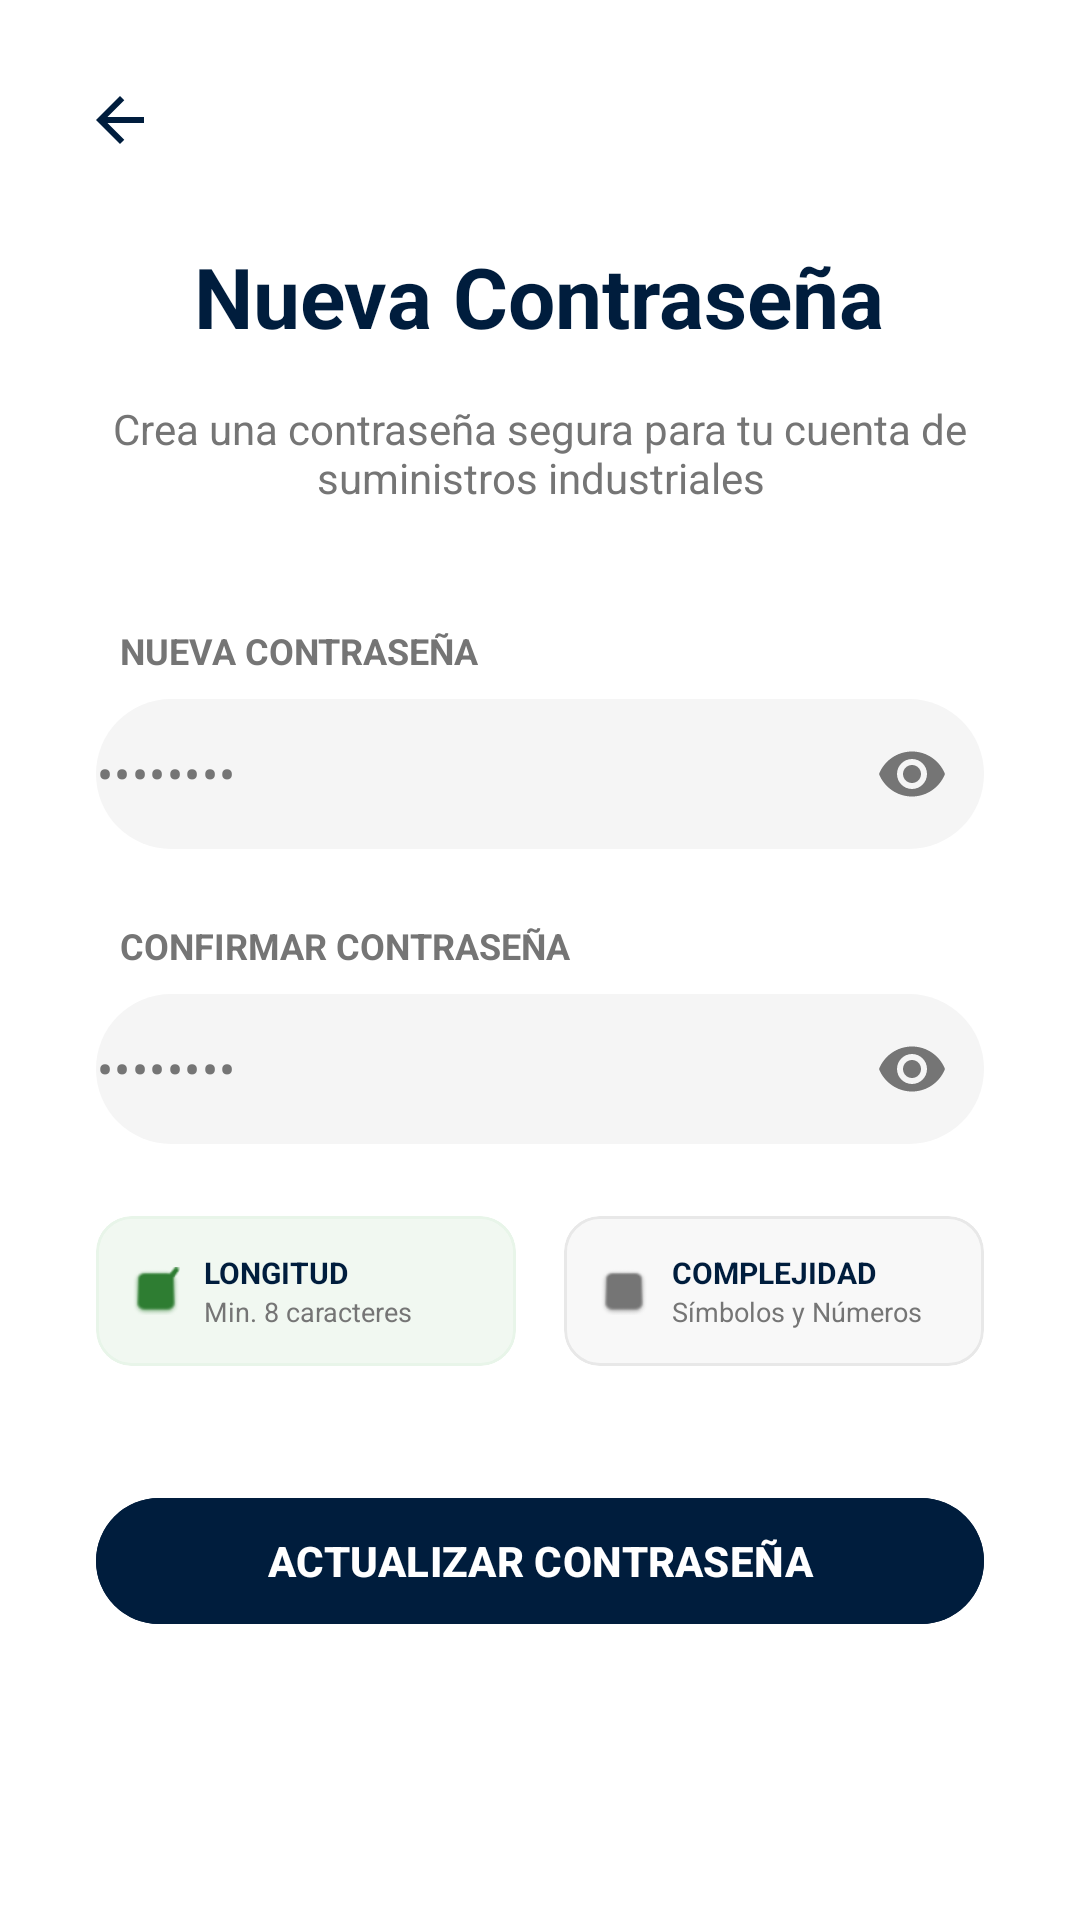

Where icons sit on this 1080 × 1920 app screen, as (x1,y1,x2,y2):
Fecha de regresar: (96,96,144,144)
